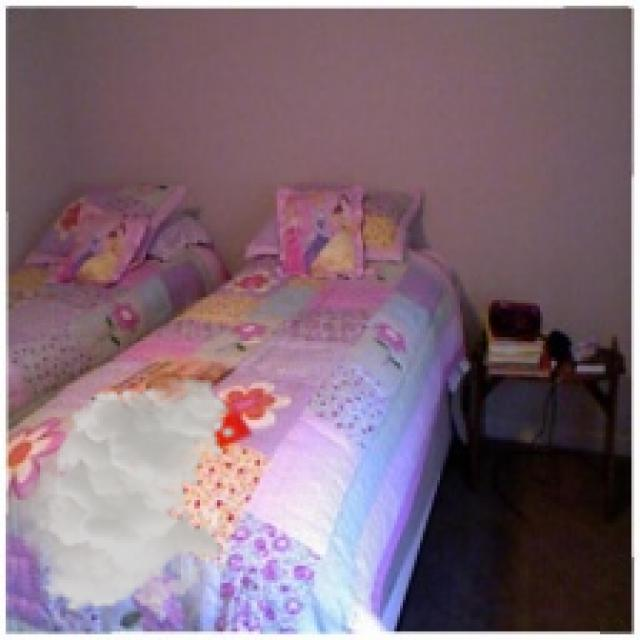Smoke: (11, 377, 238, 614)
